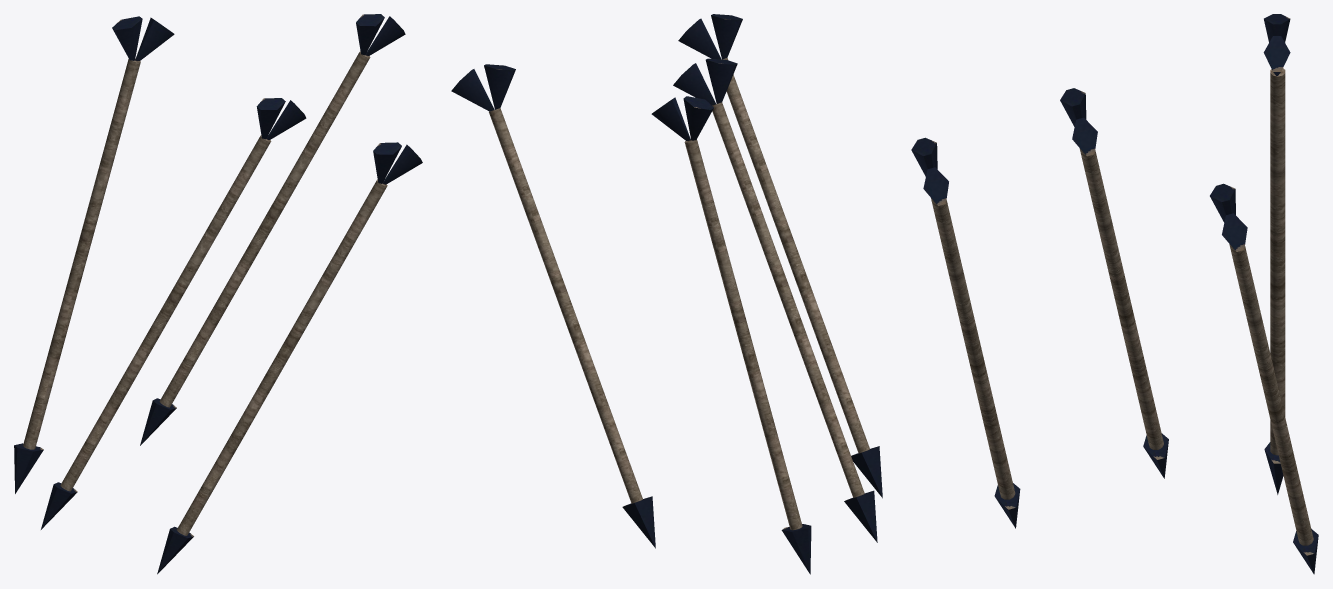
Rendered from Flechas.fbx.
The picture shows the model from 3 angles, left to right: view 1: azimuth 30°, elevation 25°; view 2: azimuth 150°, elevation 25°; view 3: azimuth 270°, elevation 25°; orthographic projection. The views are drawn at different scales.
Parts seen in each view (by area): view 1: pCube72; view 2: pCube72; view 3: pCube72.
Part boxes in pixels (x1=…): pCube72: x1=14, y1=14, x2=422, y2=574; pCube72: x1=451, y1=14, x2=882, y2=574; pCube72: x1=911, y1=14, x2=1318, y2=574.
Bounding box in the file's own units: 14.87 × 16.47 × 10.88.
1 material, 1 textured.
